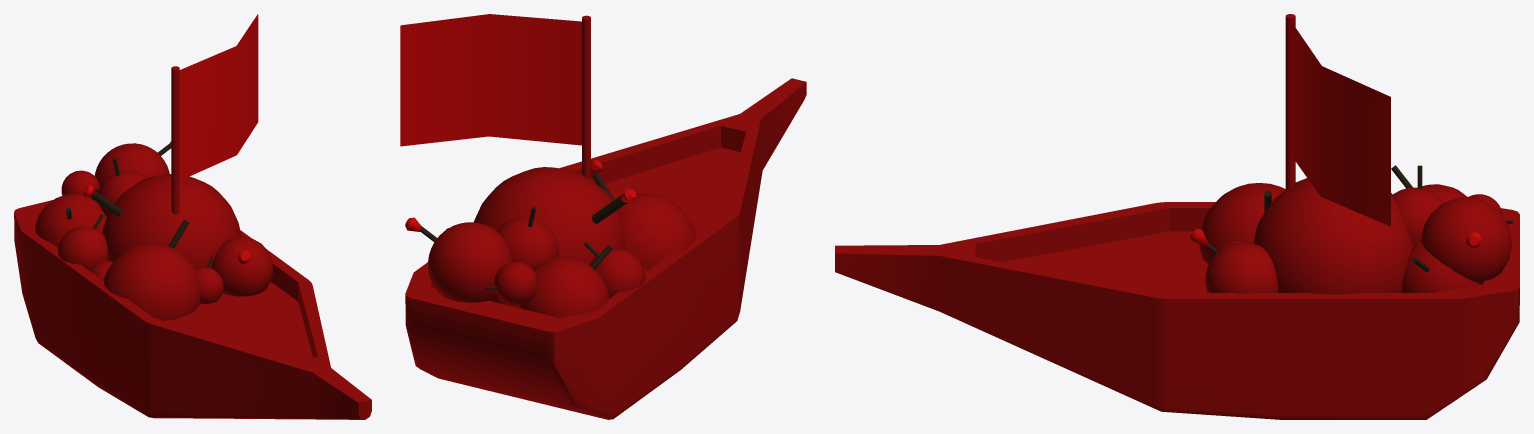
The model's file is tobyboatRed.fbx.
3 renders of one model, left to right at view 1: azimuth 30°, elevation 25°; view 2: azimuth 150°, elevation 25°; view 3: azimuth 270°, elevation 25°, orthographic. The views are drawn at different scales.
Visible parts, largest first — view 1: tobybase, flag, bomb3, bomb5, bomb6, bomb4, bomb11, bomb9, Mast, bomb10, bomb7, bomb12; view 2: tobybase, flag1, bomb3, bomb11, bomb5, bomb4, bomb10, bomb9, bomb12, Mast; view 3: tobybase, flag, bomb3, bomb11, bomb5, bomb6, bomb1, bomb10, Mast, bomb4.
Boxes of the visible parts, x1=… form: tobybase: x1=14, y1=200, x2=371, y2=419; flag: x1=179, y1=15, x2=258, y2=180; bomb3: x1=90, y1=174, x2=241, y2=268; bomb5: x1=103, y1=220, x2=200, y2=320; bomb6: x1=211, y1=237, x2=273, y2=296; bomb4: x1=35, y1=193, x2=106, y2=247; bomb11: x1=95, y1=143, x2=171, y2=186; bomb9: x1=58, y1=214, x2=107, y2=270; Mast: x1=171, y1=66, x2=179, y2=214; bomb10: x1=98, y1=158, x2=147, y2=217; bomb7: x1=195, y1=256, x2=223, y2=303; bomb12: x1=61, y1=170, x2=99, y2=195; tobybase: x1=405, y1=78, x2=806, y2=419; flag1: x1=400, y1=14, x2=581, y2=146; bomb3: x1=474, y1=167, x2=627, y2=264; bomb11: x1=421, y1=222, x2=511, y2=302; bomb5: x1=592, y1=172, x2=696, y2=270; bomb4: x1=520, y1=245, x2=612, y2=318; bomb10: x1=497, y1=206, x2=558, y2=268; bomb9: x1=584, y1=242, x2=645, y2=298; bomb12: x1=485, y1=261, x2=538, y2=305; Mast: x1=582, y1=15, x2=590, y2=179; tobybase: x1=835, y1=202, x2=1519, y2=419; flag: x1=1291, y1=23, x2=1389, y2=226; bomb3: x1=1253, y1=178, x2=1413, y2=294; bomb11: x1=1420, y1=197, x2=1512, y2=284; bomb5: x1=1199, y1=183, x2=1285, y2=264; bomb6: x1=1205, y1=242, x2=1278, y2=293; bomb1: x1=1401, y1=241, x2=1483, y2=292; bomb10: x1=1392, y1=165, x2=1444, y2=245; Mast: x1=1285, y1=14, x2=1295, y2=190; bomb4: x1=1391, y1=165, x2=1467, y2=202.
Size of the model in its own units: 6.25 by 8.64 by 14.93.
